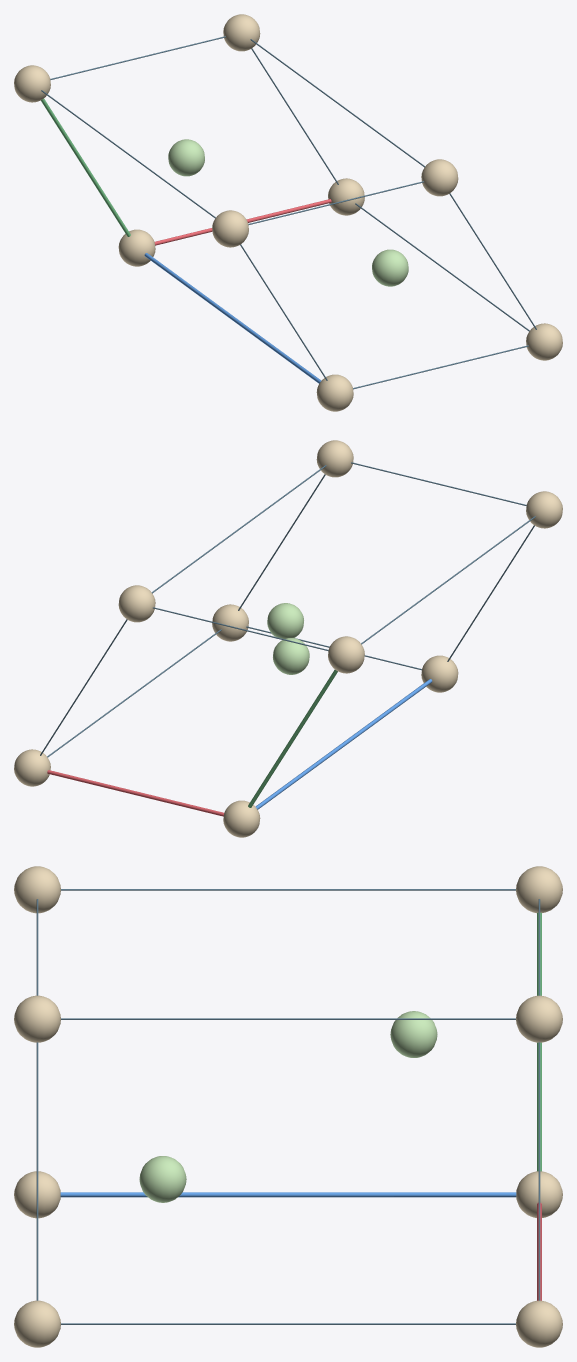
Rendered from chat-manganese-iodide.glb.
3 views of the same model, one above another, from view 1: azimuth 30°, elevation 25°; view 2: azimuth 150°, elevation 25°; view 3: azimuth 270°, elevation 25° (orthographic). The views are drawn at different scales.
Visible parts, largest first — view 1: Mn · Mn · 1 (×8), Ô mạng và các trục a, b, c, I · I · 1 (×2); view 2: Mn · Mn · 1 (×8), Ô mạng và các trục a, b, c, I · I · 1 (×2); view 3: Mn · Mn · 1 (×8), Ô mạng và các trục a, b, c, I · I · 1 (×2).
Boxes of the visible parts, x1,y1,x2,y2 form: Mn · Mn · 1 (×8): [14, 14, 562, 411]; Ô mạng và các trục a, b, c: [41, 36, 536, 389]; I · I · 1 (×2): [168, 139, 408, 286]; Mn · Mn · 1 (×8): [14, 440, 562, 837]; Ô mạng và các trục a, b, c: [40, 462, 535, 816]; I · I · 1 (×2): [267, 603, 309, 674]; Mn · Mn · 1 (×8): [14, 866, 562, 1347]; Ô mạng và các trục a, b, c: [36, 889, 541, 1324]; I · I · 1 (×2): [139, 1011, 437, 1202].
Bounding box in the file's own units: 6.88 × 4.24 × 7.46.
